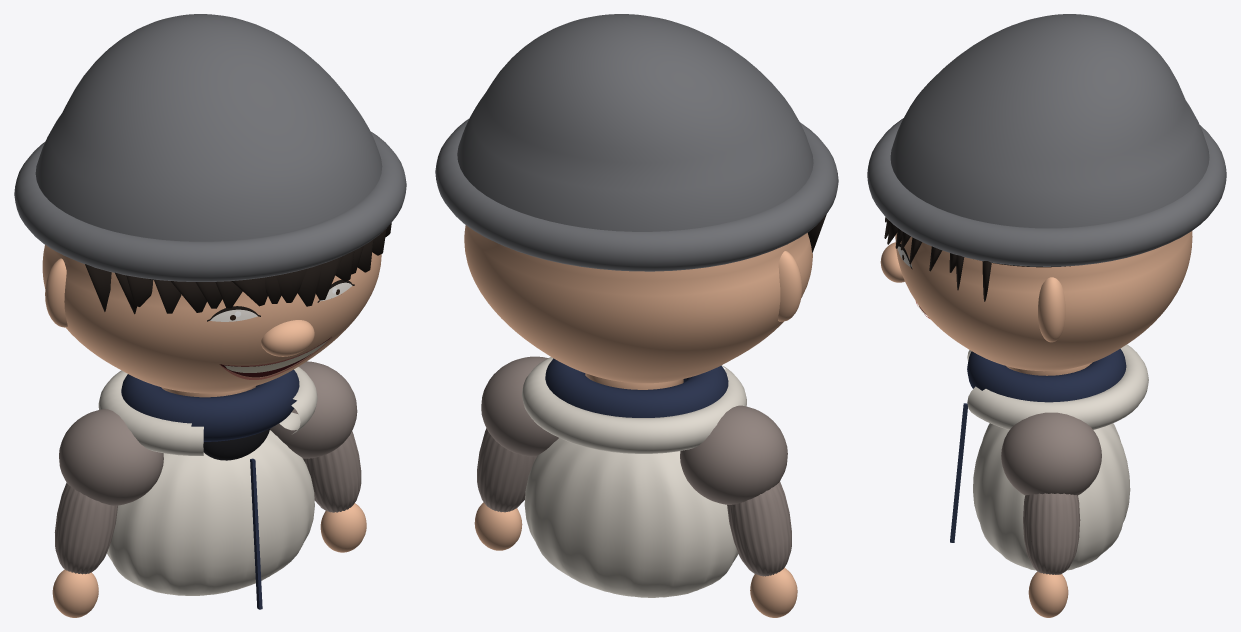
The model's file is friend.glb.
3 renders of one model, left to right at view 1: azimuth 30°, elevation 25°; view 2: azimuth 150°, elevation 25°; view 3: azimuth 270°, elevation 25°, orthographic. The views are drawn at different scales.
Visible parts, largest first — view 1: Beanie, Jacket, Face, BeanieCuff, Hair, Shoulder_-1, InnerCollar, JacketCollar, Shoulder_1, Sleeve_-1, Sleeve_1, FaceFeatures (+6 smaller); view 2: Beanie, Face, Jacket, BeanieCuff, JacketCollar, Shoulder_-1, InnerCollar, Sleeve_-1, Shoulder_1, Sleeve_1, Hand_-1, Hand_1 (+2 smaller); view 3: Beanie, Face, BeanieCuff, Jacket, Shoulder_1, JacketCollar, InnerCollar, Sleeve_1, Ear_L, Hand_1, Hair, Zipper (+1 smaller).
Part boxes in pixels (x1,y1,x2,y2): Beanie: (35,14,382,241); Jacket: (107,430,314,595); Face: (42,245,381,393); BeanieCuff: (14,131,406,281); Hair: (85,223,391,314); Shoulder_-1: (59,409,163,505); InnerCollar: (121,369,299,441); JacketCollar: (98,367,317,455); Shoulder_1: (270,361,357,458); Sleeve_-1: (54,483,117,574); Sleeve_1: (303,431,361,512); FaceFeatures: (207,279,354,379); Beanie: (457,14,813,231); Face: (464,225,812,383); Jacket: (524,438,738,597); BeanieCuff: (435,119,838,271); JacketCollar: (522,357,746,453); Shoulder_-1: (680,405,787,504); InnerCollar: (545,358,728,417); Sleeve_-1: (727,481,791,576); Shoulder_1: (481,356,558,456); Sleeve_1: (477,428,536,512); Hand_-1: (750,567,797,617); Hand_1: (474,502,522,550); Beanie: (890,14,1209,228); Face: (895,231,1192,371); BeanieCuff: (867,118,1226,266); Jacket: (973,423,1130,570); Shoulder_1: (1001,412,1101,495); JacketCollar: (967,344,1148,429); InnerCollar: (967,348,1126,402); Sleeve_1: (1023,493,1080,574); Ear_L: (1038,277,1065,342); Hand_1: (1028,571,1068,617); Hair: (884,217,1070,301); Zipper: (950,403,967,542).
Size of the model in its own units: 2.5 by 3.82 by 2.35.
